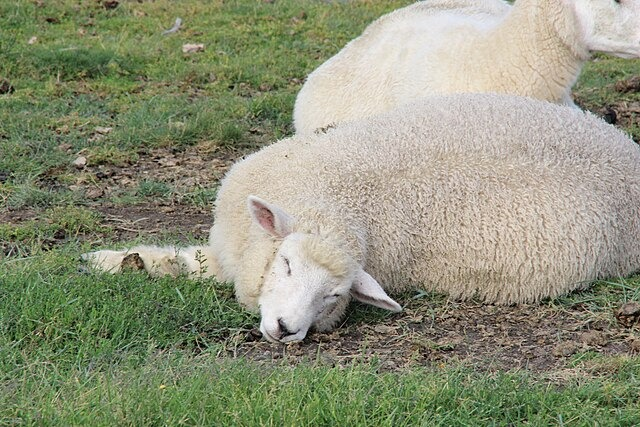resting: (210, 95, 640, 348)
